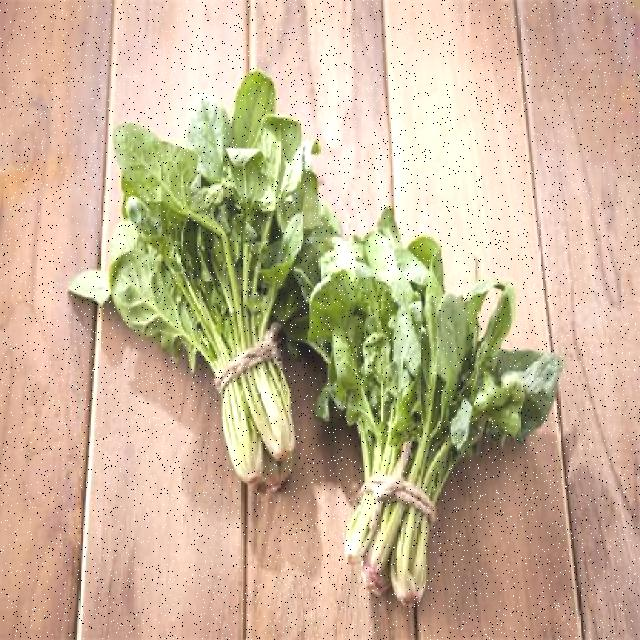Spinach: (92, 78, 325, 520), (308, 223, 560, 611)
